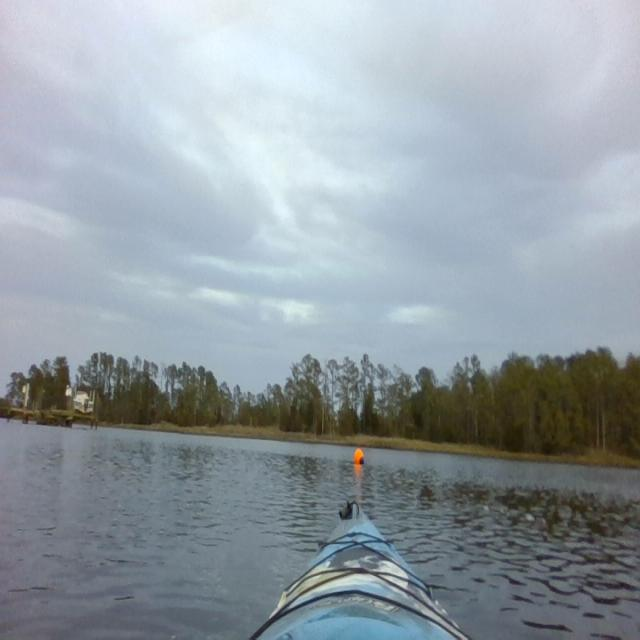Buoy: (352, 446, 365, 466)
